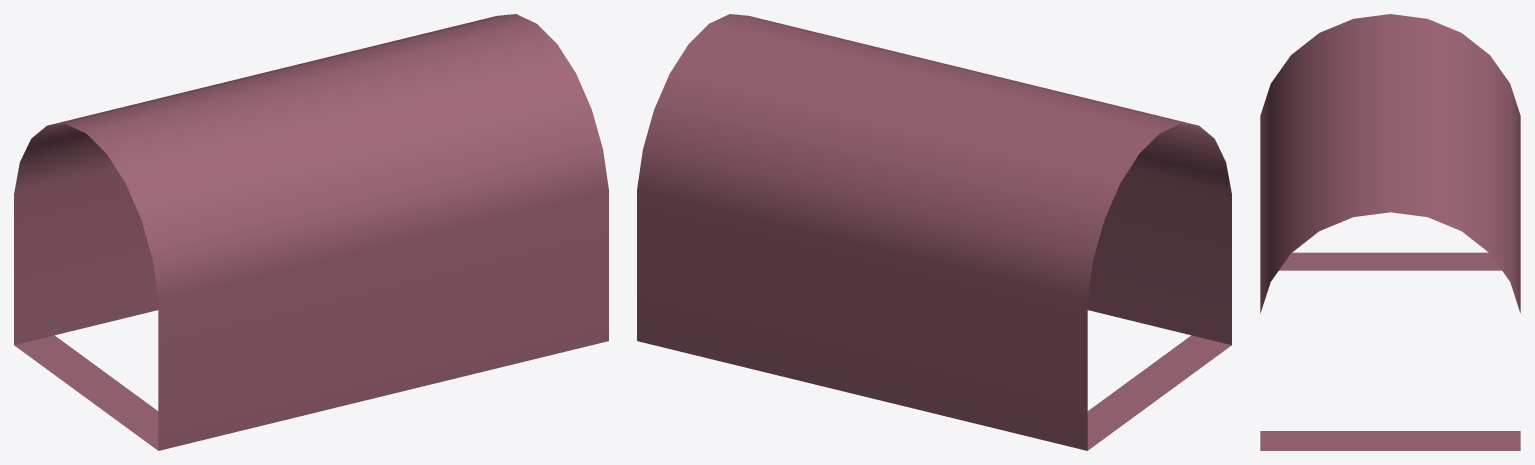
Rendered from mesh_TileTunelPisoRoto.fbx.
3 views of the same model, side by side, from view 1: azimuth 30°, elevation 25°; view 2: azimuth 150°, elevation 25°; view 3: azimuth 270°, elevation 25° (orthographic). The views are drawn at different scales.
Parts seen in each view (by area): view 1: TileTunelPisoRoto; view 2: TileTunelPisoRoto; view 3: TileTunelPisoRoto.
Part boxes in pixels (x1,y1,x2,y2): TileTunelPisoRoto: (14,14,608,450); TileTunelPisoRoto: (637,14,1231,450); TileTunelPisoRoto: (1260,14,1520,450).
Bounding box in the file's own units: 2819 × 1582 × 1566.
